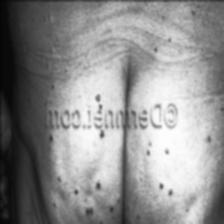Unclassified: (80, 200, 94, 218), (94, 88, 104, 106), (93, 178, 101, 190)
